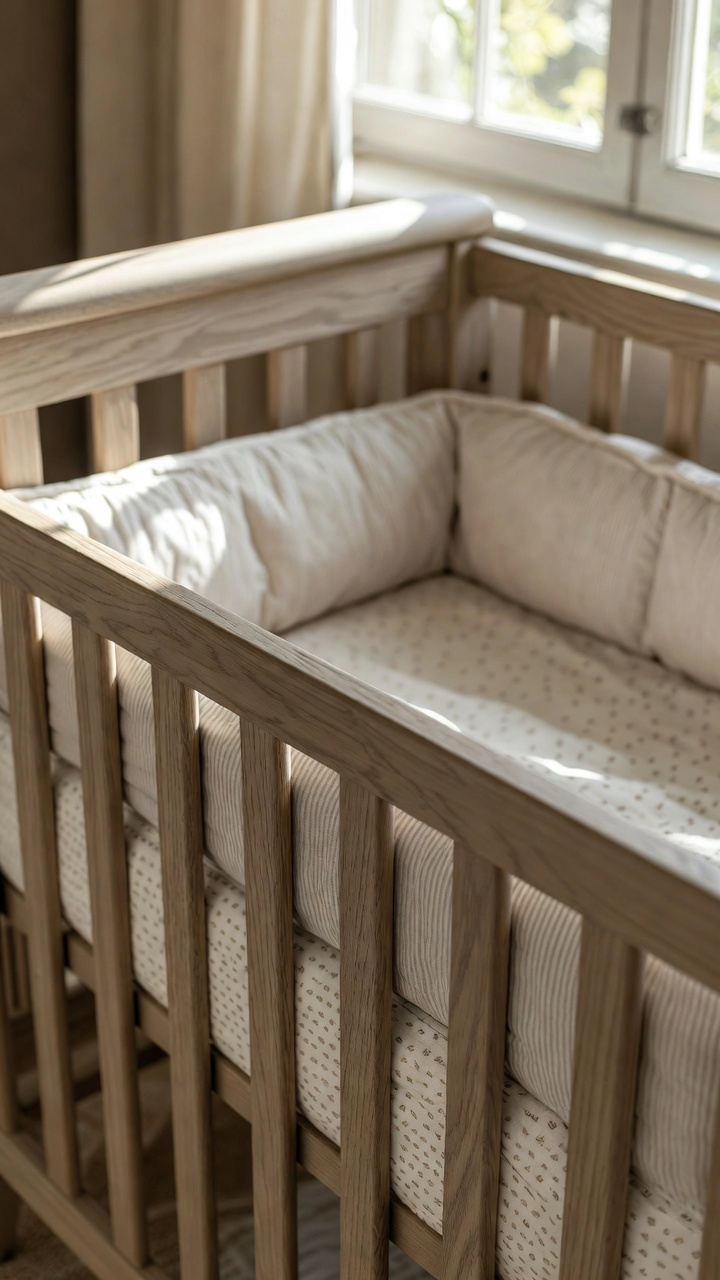crib: (0, 495, 719, 1279)
